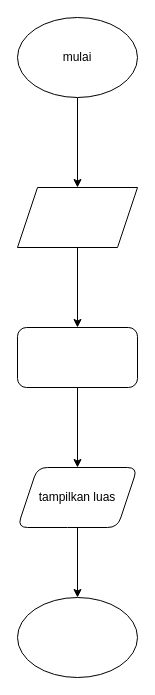
This 155x695 diagram has some shape labels left out. Here are the shapes that lost their labels. From the top down, the centre of each, then its label:
At [77,217]: "input jari jari (r)".
At [77,357]: "luas = π x r x r".
